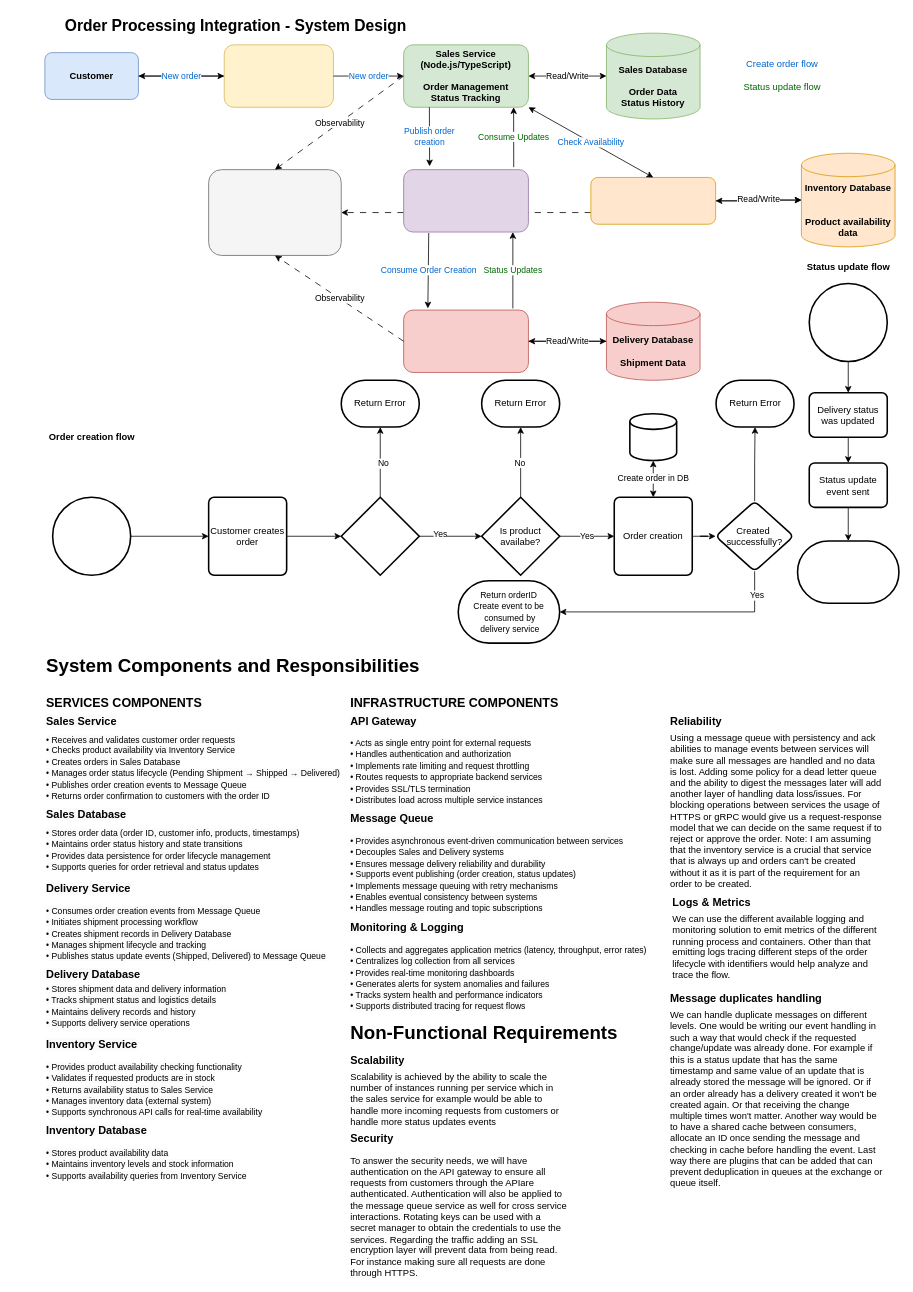
Some shapes in this 913 by 1292 pixel diagram are drawn without their labels. The centre of each missing label's shape, as x and y in pixels:
API Gateway (Load Balancer) Authentication Rate Limiting: pixel 278 75
Delivery Service Shipment Processing Status Updates: pixel 465 340
Inventory Service (Via HTTPS/gRPC) Availability Check: pixel 653 200
Message Queue (RabbitMQ/SQS) Event Bus Reliability: pixel 465 200
Monitoring & Logging (CloudWatch/Prometheus) Metrics Logs Alerts: pixel 274 212
Request valid?: pixel 380 536
Status update event consumed and handled by sales services: pixel 847 572
